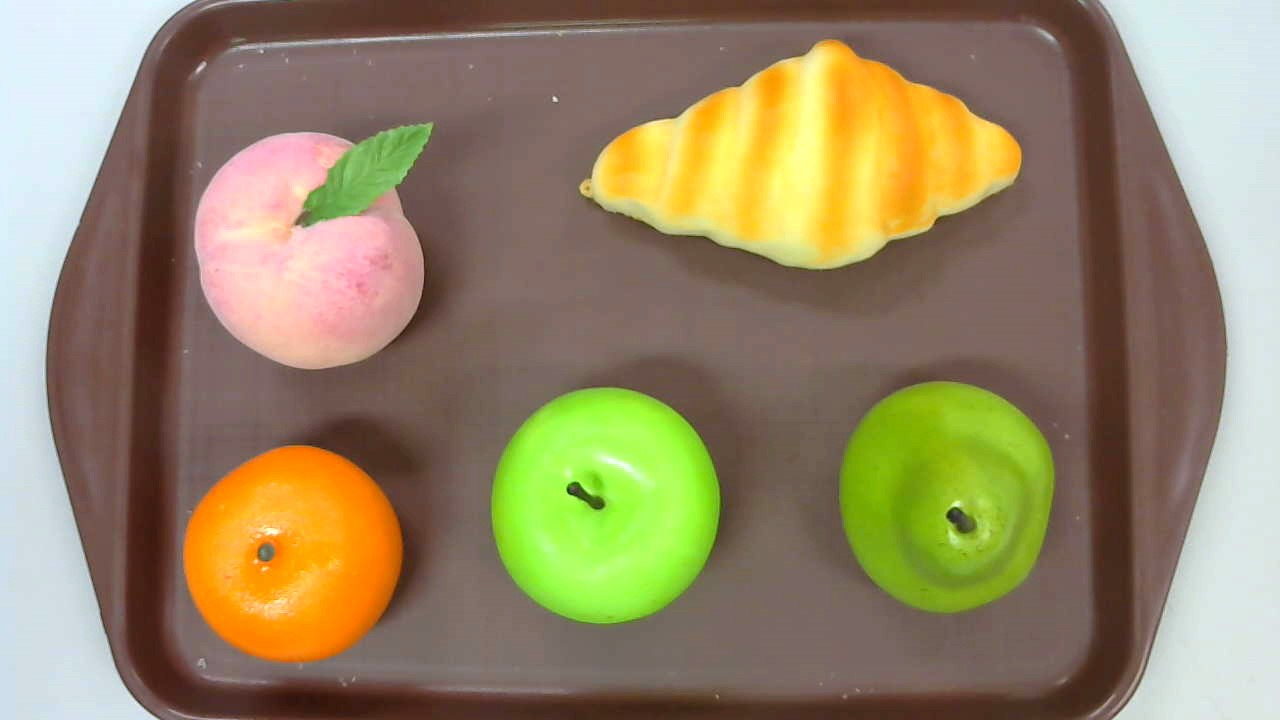croissant: (578, 39, 1022, 272)
green apple: (490, 385, 720, 622)
green pear: (839, 379, 1056, 614)
orange: (183, 444, 403, 662)
peach: (195, 121, 435, 372)
